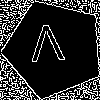V: (29, 24, 66, 72)
